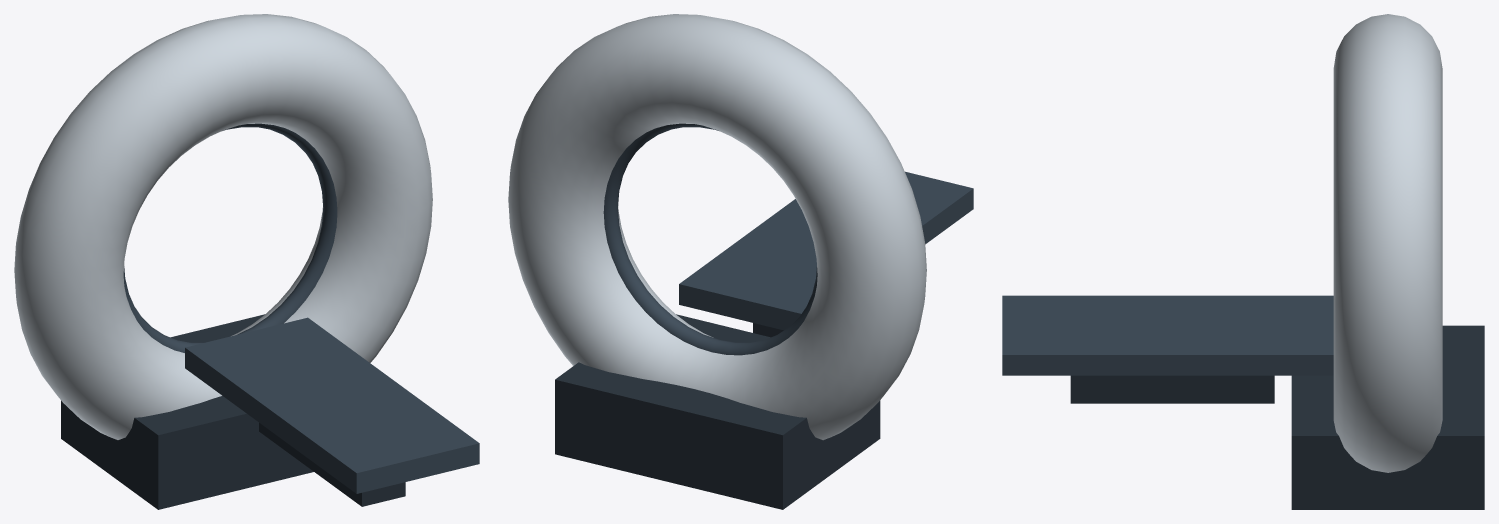
The model's file is imaging.glb.
3 renders of one model, left to right at view 1: azimuth 30°, elevation 25°; view 2: azimuth 150°, elevation 25°; view 3: azimuth 270°, elevation 25°, orthographic.
Parts seen in each view (by area): view 1: merged-deviceLight, merged-deviceMid, merged-deviceDark; view 2: merged-deviceLight, merged-deviceDark, merged-deviceMid; view 3: merged-deviceLight, merged-deviceMid, merged-deviceDark.
Part boxes in pixels (bbox=[...]): merged-deviceLight: bbox=[14, 14, 432, 439]; merged-deviceMid: bbox=[123, 123, 479, 493]; merged-deviceDark: bbox=[61, 314, 405, 509]; merged-deviceLight: bbox=[508, 14, 926, 440]; merged-deviceDark: bbox=[555, 314, 880, 509]; merged-deviceMid: bbox=[603, 123, 973, 355]; merged-deviceLight: bbox=[1333, 14, 1442, 472]; merged-deviceMid: bbox=[1002, 295, 1333, 375]; merged-deviceDark: bbox=[1070, 325, 1484, 509].
Size of the model in its own units: 2.04 by 2.04 by 2.13.
